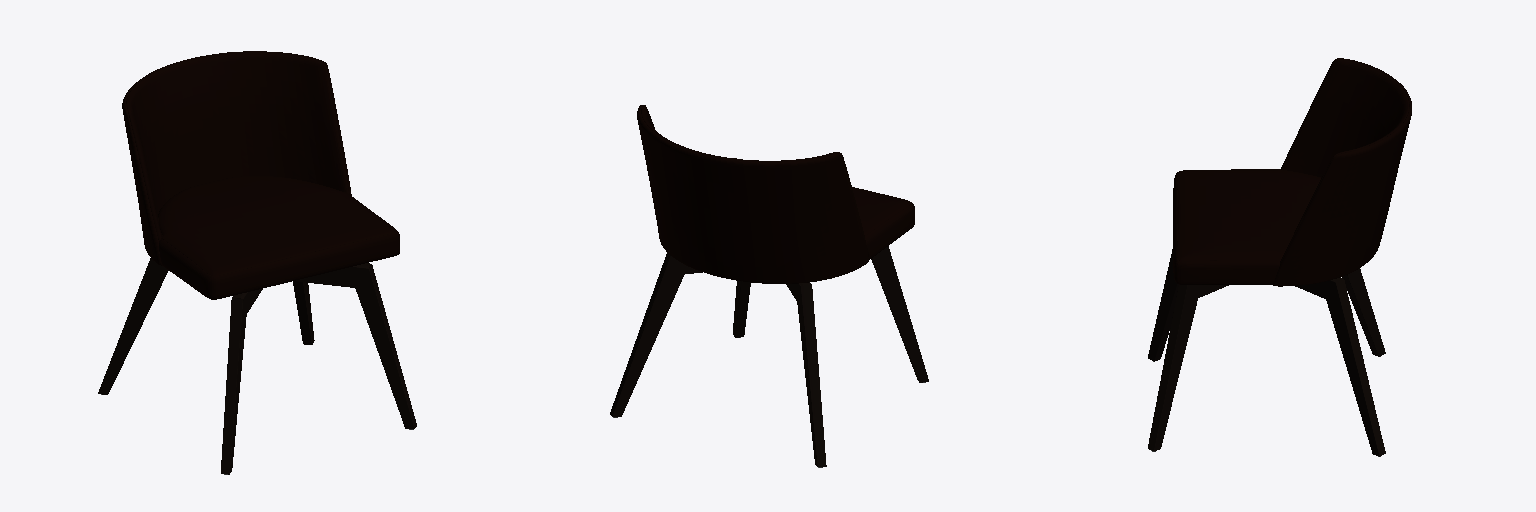
Rendered from chair.obj.
3 renders of one model, left to right at view 1: azimuth 30°, elevation 25°; view 2: azimuth 150°, elevation 25°; view 3: azimuth 270°, elevation 25°, orthographic.
Visible parts, largest first — view 1: Marta_0604S_012_Untitled.009, Marta_0604S_004_Untitled.002, Marta_0604S_001_Untitled.007, Marta_0604S_003_Untitled.001; view 2: Marta_0604S_012_Untitled.009, Marta_0604S_003_Untitled.001, Marta_0604S_001_Untitled.007, Marta_0604S_004_Untitled.002; view 3: Marta_0604S_012_Untitled.009, Marta_0604S_004_Untitled.002, Marta_0604S_003_Untitled.001, Marta_0604S_001_Untitled.007.
Part boxes in pixels (bbox=[...]): Marta_0604S_012_Untitled.009: bbox=[122, 51, 351, 265]; Marta_0604S_004_Untitled.002: bbox=[158, 176, 399, 299]; Marta_0604S_001_Untitled.007: bbox=[98, 258, 416, 428]; Marta_0604S_003_Untitled.001: bbox=[221, 281, 314, 474]; Marta_0604S_012_Untitled.009: bbox=[637, 105, 868, 283]; Marta_0604S_003_Untitled.001: bbox=[610, 246, 928, 416]; Marta_0604S_001_Untitled.007: bbox=[733, 281, 826, 466]; Marta_0604S_004_Untitled.002: bbox=[734, 158, 914, 259]; Marta_0604S_012_Untitled.009: bbox=[1273, 58, 1411, 286]; Marta_0604S_004_Untitled.002: bbox=[1173, 169, 1320, 284]; Marta_0604S_003_Untitled.001: bbox=[1148, 249, 1385, 456]; Marta_0604S_001_Untitled.007: bbox=[1148, 268, 1385, 450].
Size of the model in its own units: 0.5793 by 0.7654 by 0.6132.